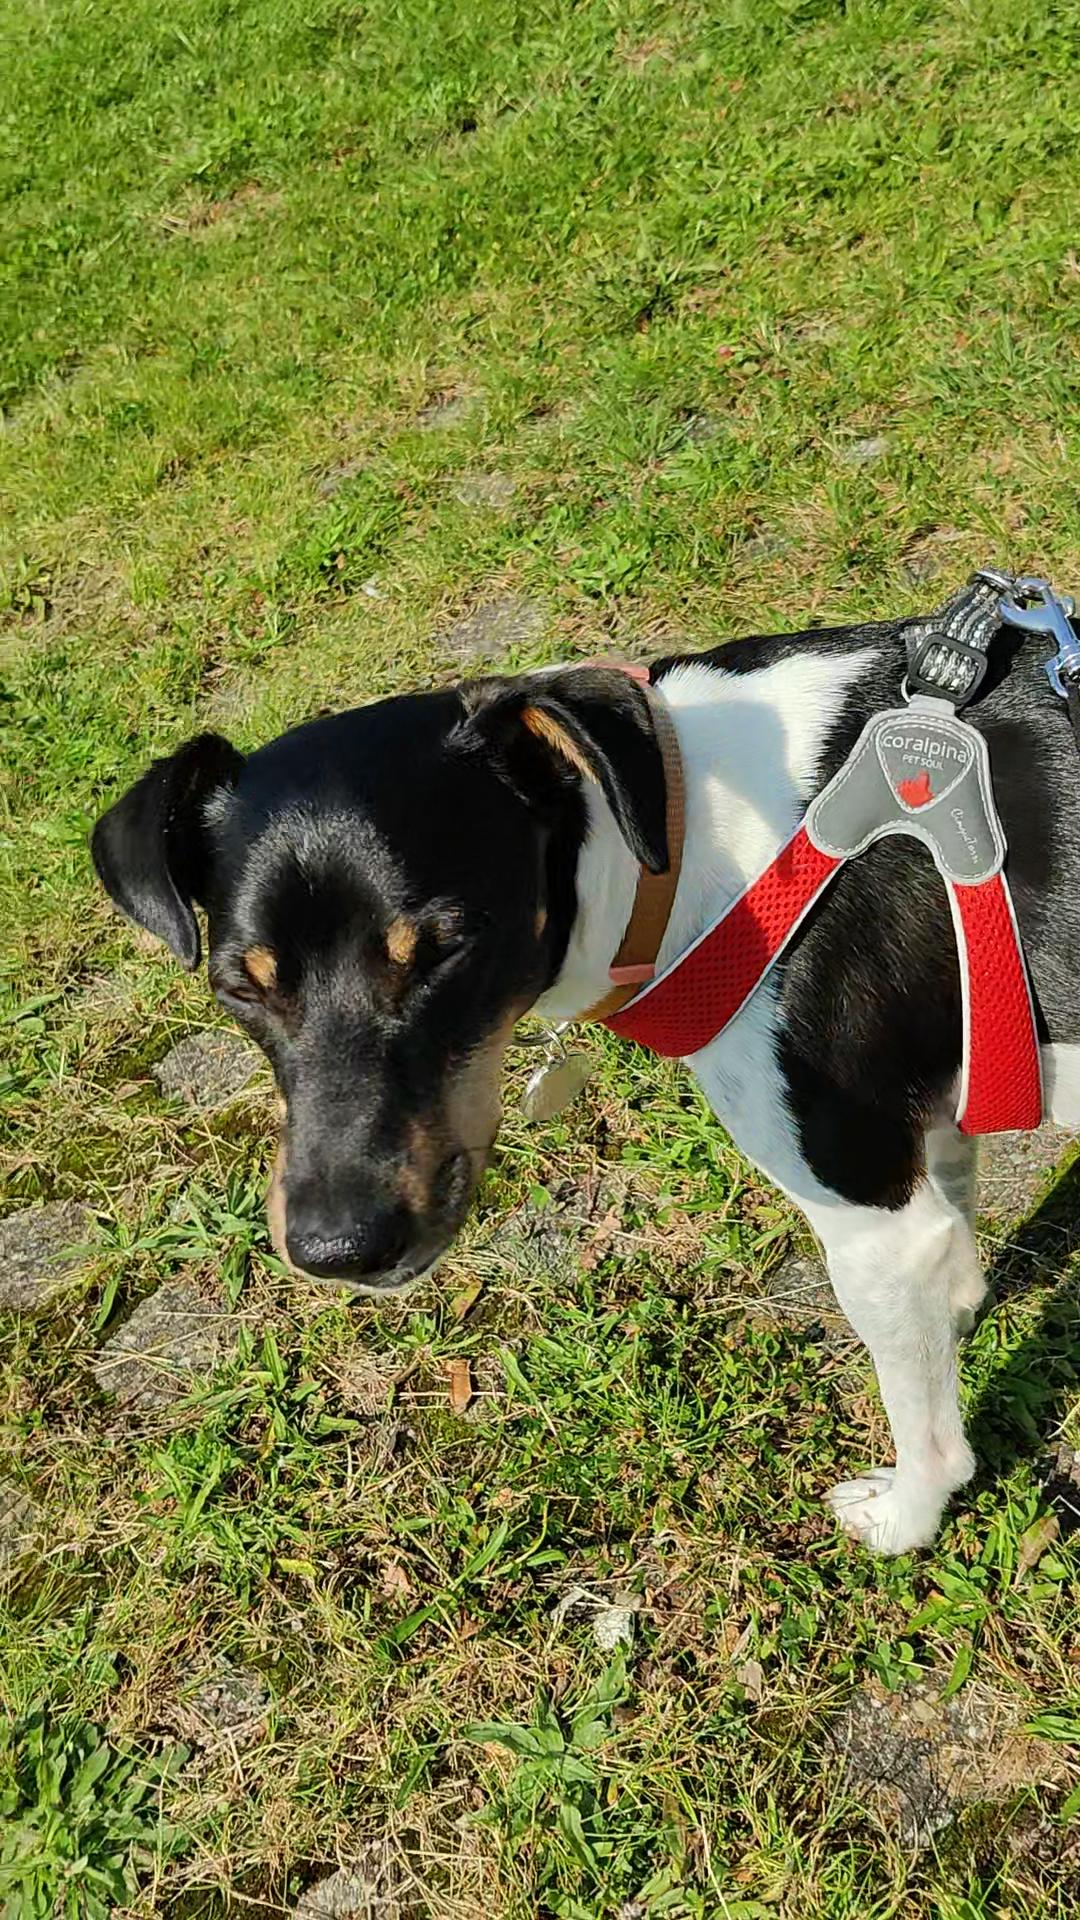Dog: (73, 549, 1079, 1629)
